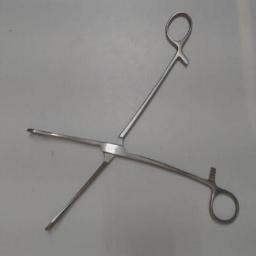Sponge Forceps: (20, 6, 242, 238)
